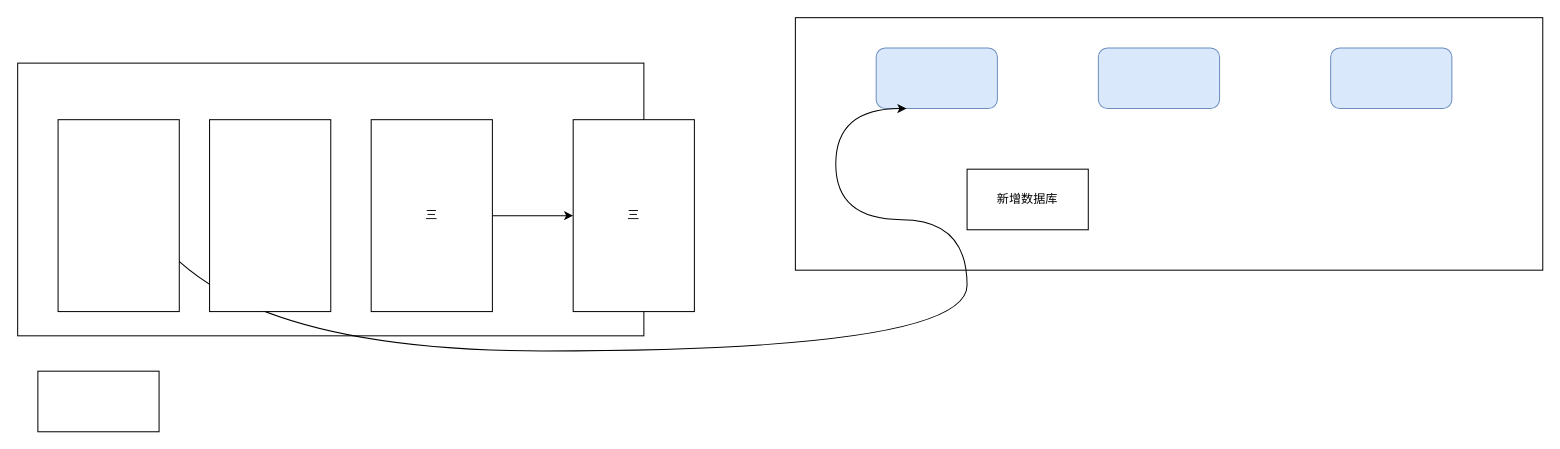
This 1560x449 diagram has some shape labels left out. The centre of each missing label's shape, as x and y in pixels:
y按草: pixel 270 215
内管: pixel 118 215
